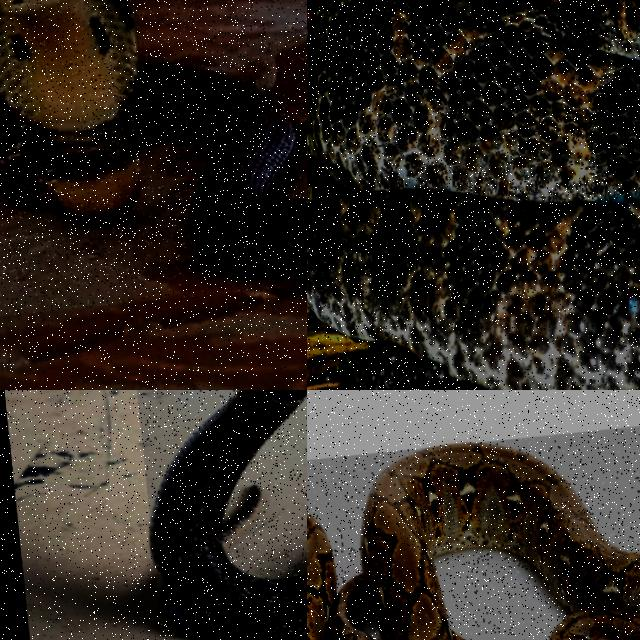Calloselasma rhodostoma: (307, 0, 639, 389)
Malayopython reticulatus: (307, 444, 639, 639)
Naja kaouthia: (0, 0, 306, 277), (151, 390, 306, 639)
snake: (307, 0, 639, 389), (0, 0, 306, 277), (307, 444, 639, 639), (151, 390, 306, 639)
